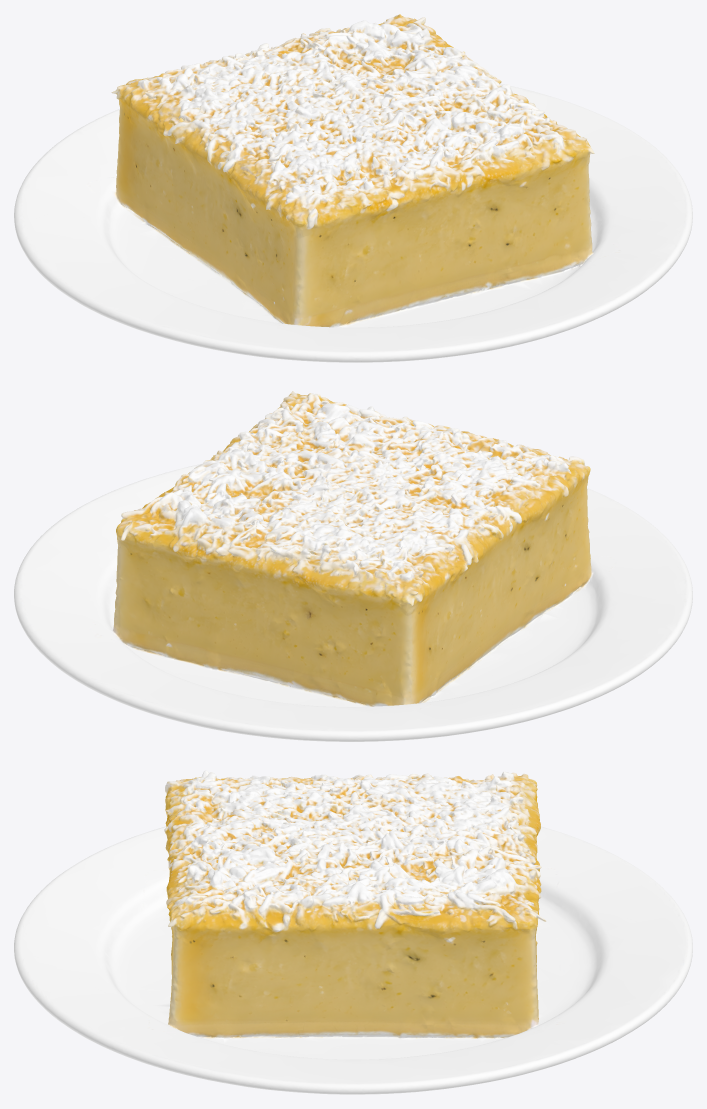
The model's file is Meshy_AI_coconut_cake_slice_0722041510_image-to-3d-texture-v1.glb.
3 renders of one model, top to bottom at view 1: azimuth 30°, elevation 25°; view 2: azimuth 150°, elevation 25°; view 3: azimuth 270°, elevation 25°, orthographic.
Size of the model in its own units: 1.9 by 0.5126 by 1.9.
1 material, 1 textured.
